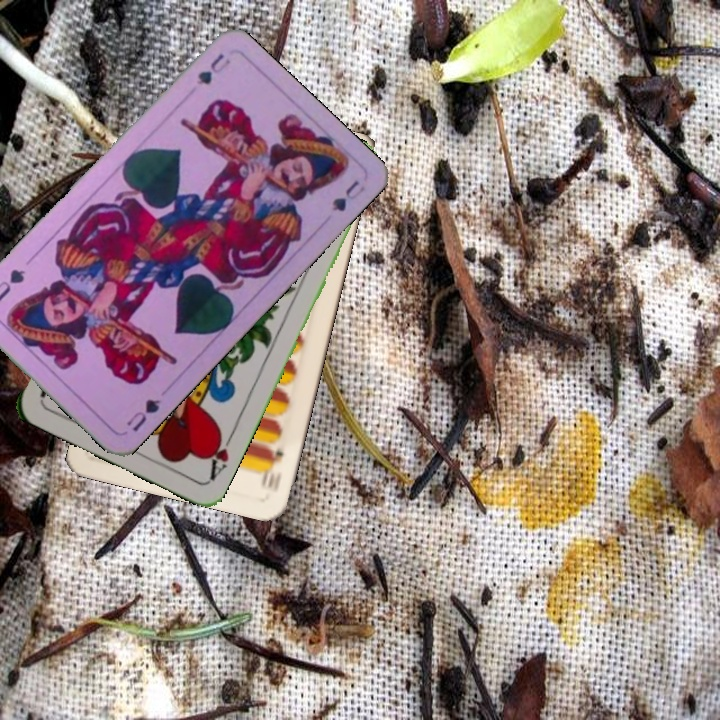E10: (257, 444, 286, 491)
GU: (191, 49, 234, 87), (122, 395, 163, 434)
HA: (203, 426, 237, 484)
